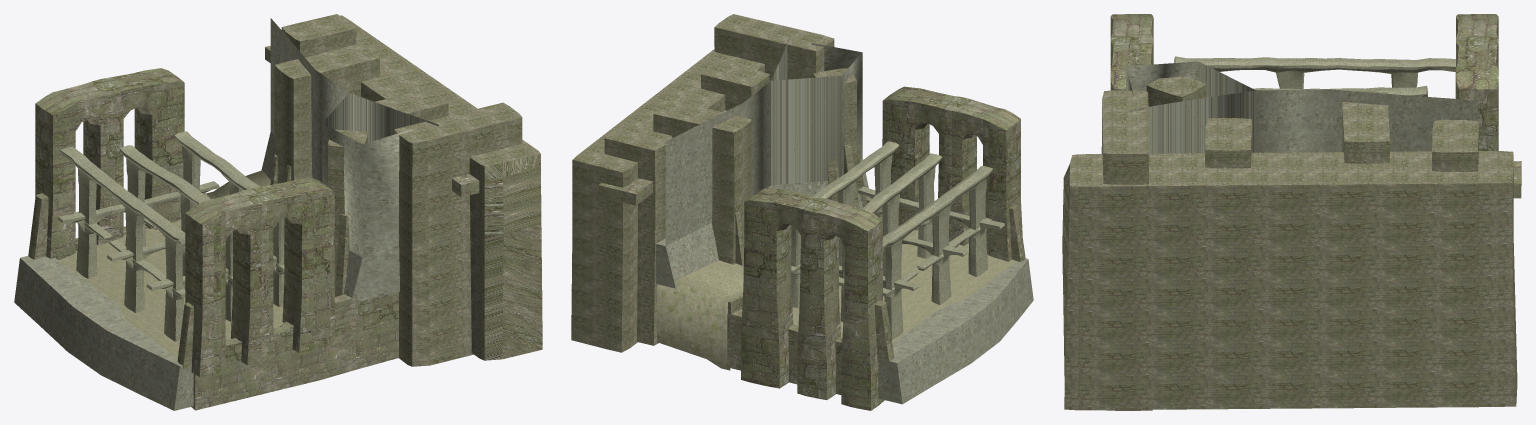
File: SM_Chateaux_02_01.fbx
3 renders of one model, left to right at view 1: azimuth 30°, elevation 25°; view 2: azimuth 150°, elevation 25°; view 3: azimuth 270°, elevation 25°, orthographic. The views are drawn at different scales.
Visible parts, largest first — view 1: SM_Chateaux_02_01, SM_Chateaux_02_01.001; view 2: SM_Chateaux_02_01, SM_Chateaux_02_01.001; view 3: SM_Chateaux_02_01, SM_Chateaux_02_01.001.
Part boxes in pixels (<box>): SM_Chateaux_02_01: <box>14,14,542,410</box>; SM_Chateaux_02_01.001: <box>270,18,438,257</box>; SM_Chateaux_02_01: <box>571,14,1033,410</box>; SM_Chateaux_02_01.001: <box>665,37,862,245</box>; SM_Chateaux_02_01: <box>1062,14,1521,410</box>; SM_Chateaux_02_01.001: <box>1126,61,1477,153</box>.
Size of the model in its own units: 7704 by 4728 by 7360.
